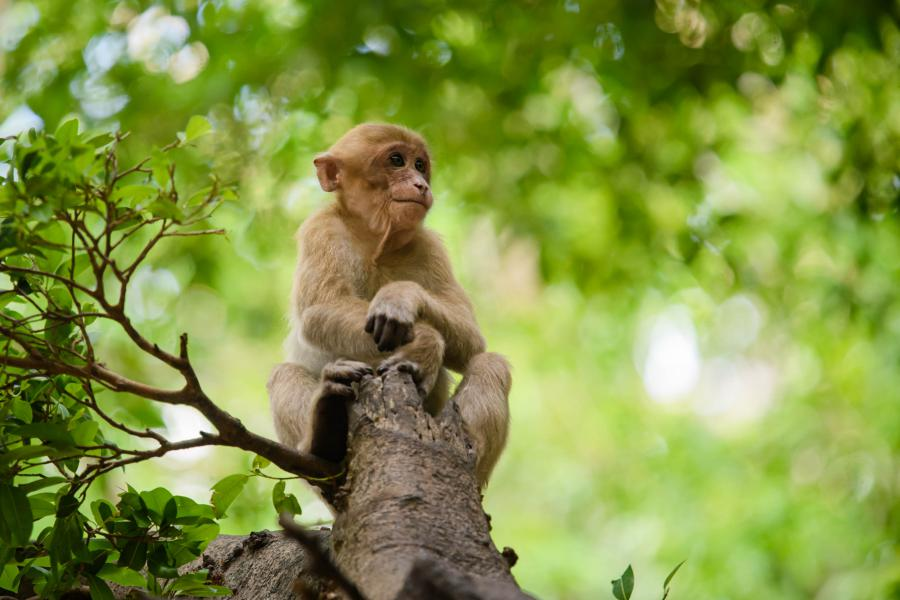monkey: (258, 111, 533, 517)
